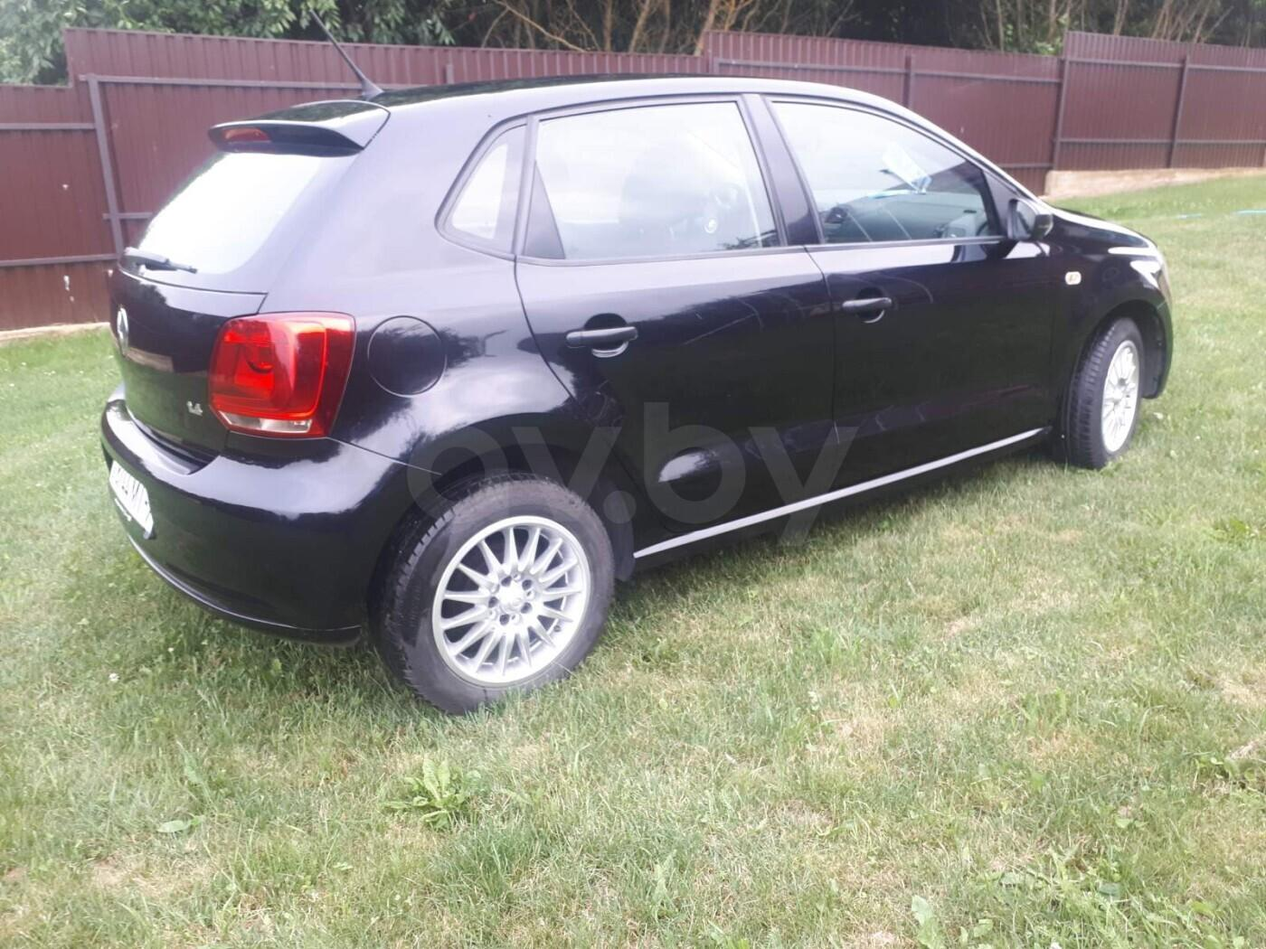Polo_2009-2015: (82, 61, 1179, 744)
